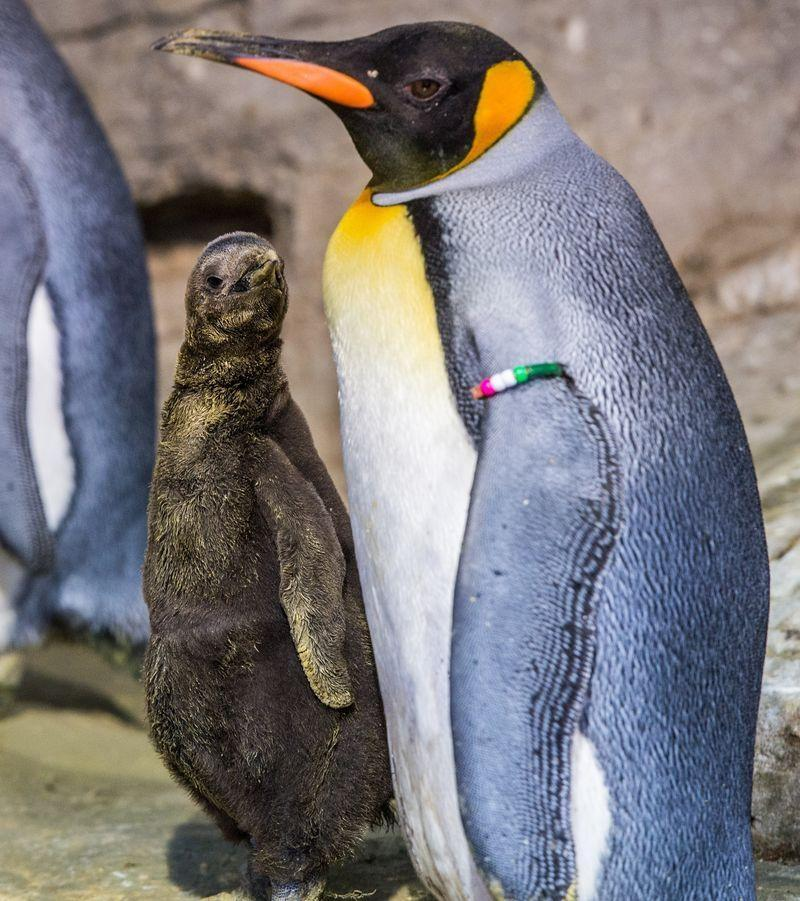Penguin: (150, 21, 770, 899), (144, 231, 398, 900), (0, 0, 158, 652)
